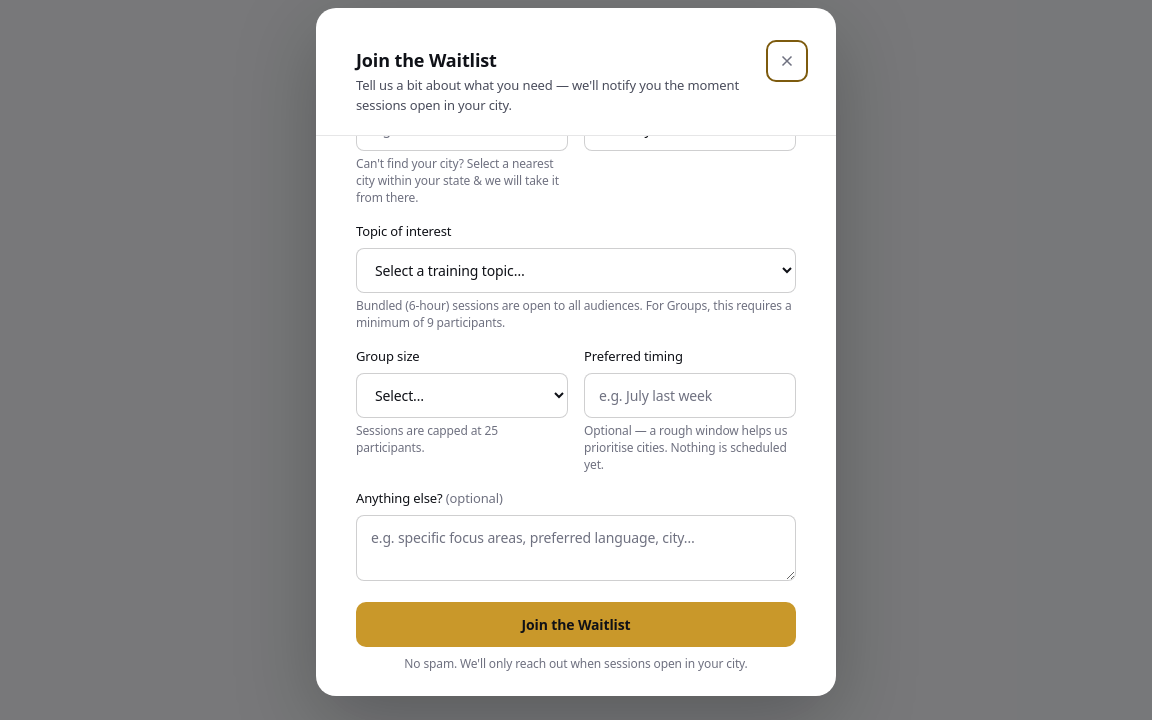
Test: RequestModal › does not submit an incomplete form, and says which field is wrong
(page scrolled)
Step 1. Click the button "Join the Waitlist" → x=576, y=625, box x1=356 y1=602 x2=796 y2=647
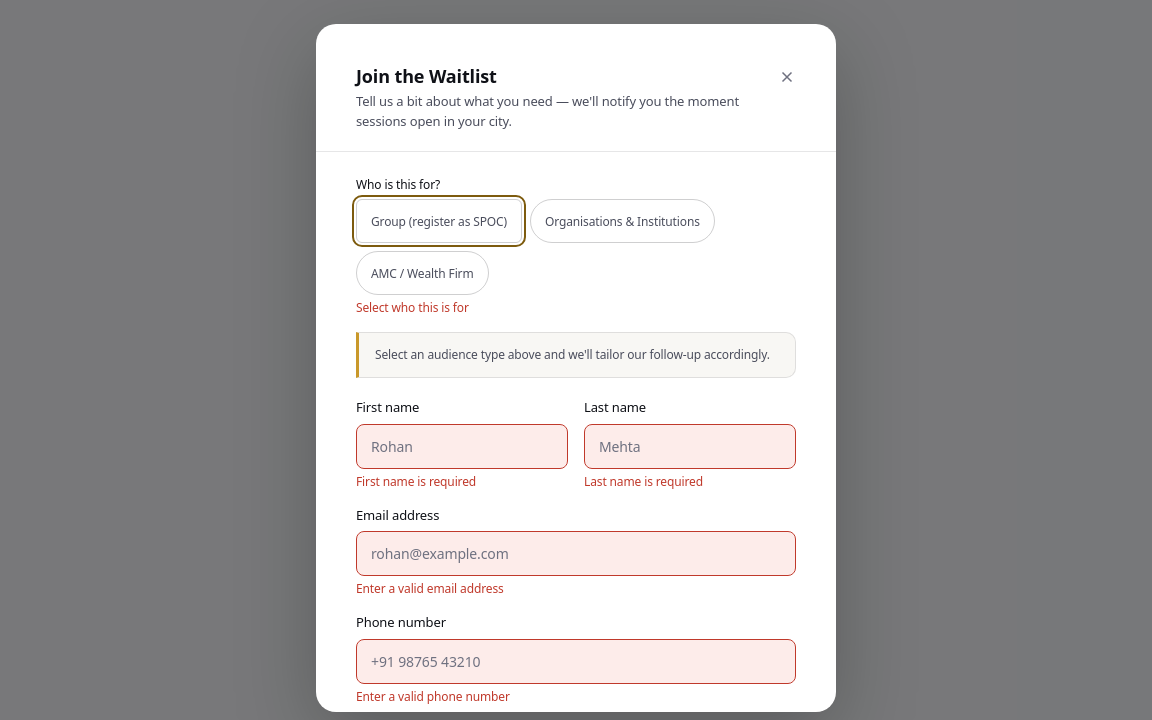
Expected: the text "First name is required" is shown, x1=356 y1=473 x2=476 y2=490
